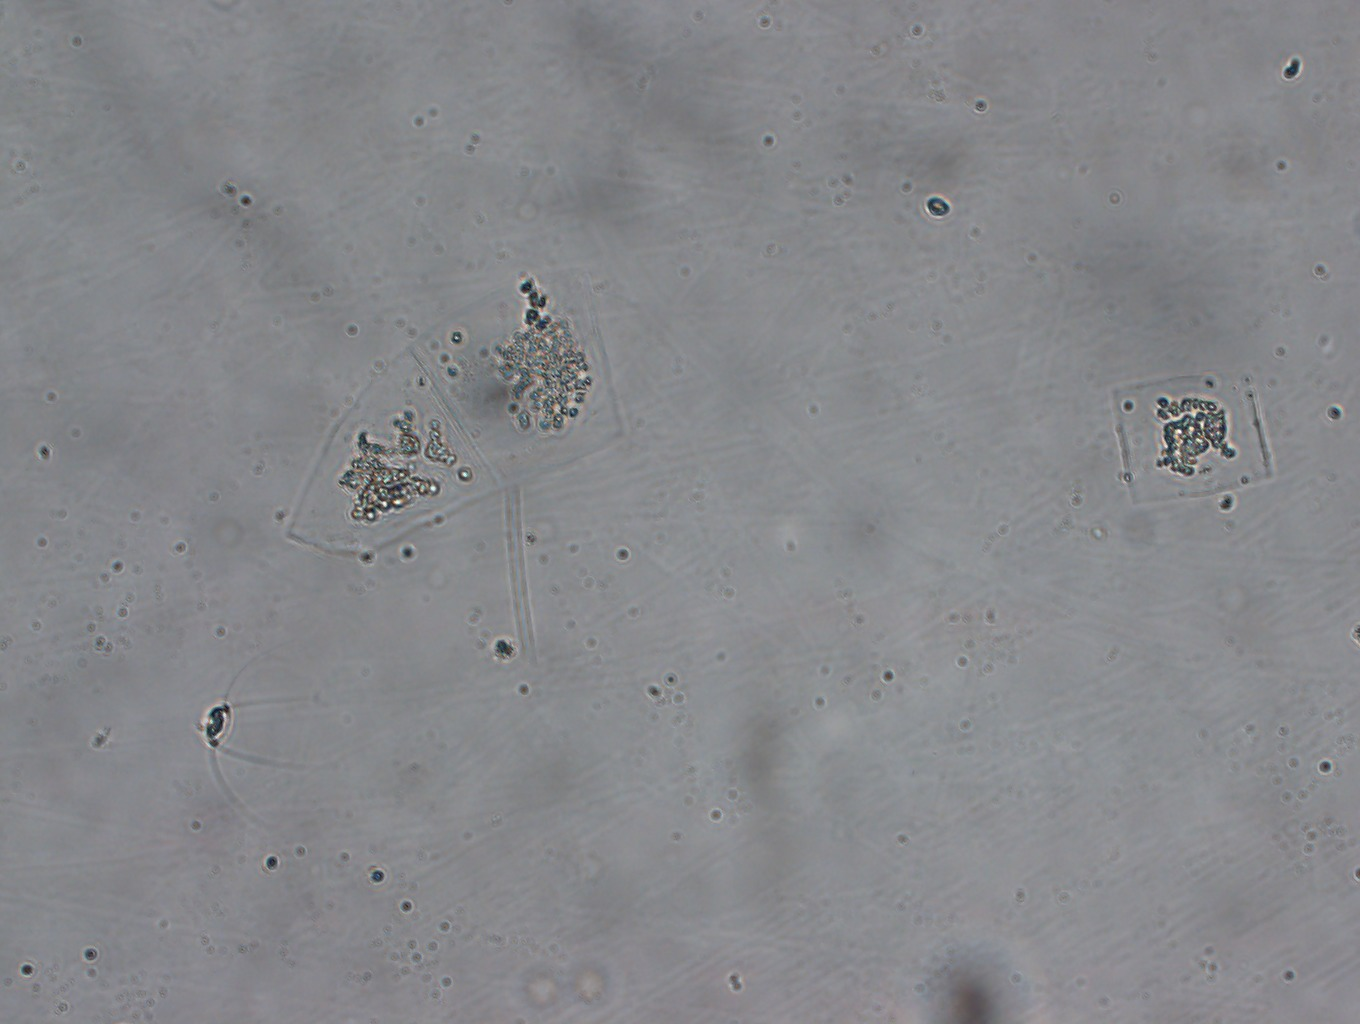chaetoceros: (204, 656, 337, 833)
helicotheca: (284, 265, 620, 556), (1111, 367, 1273, 507)
